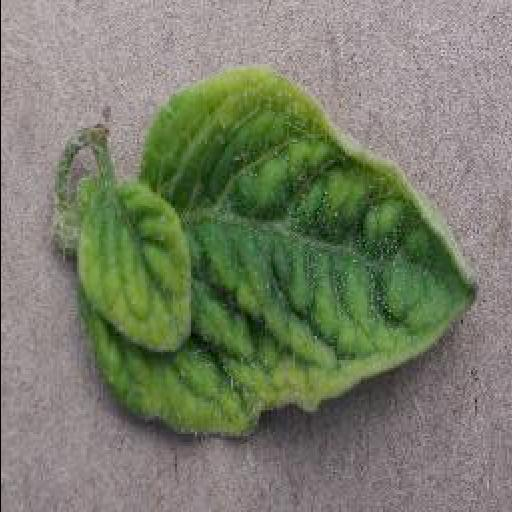disease_tomato: (86, 66, 482, 438), (72, 186, 186, 352)
